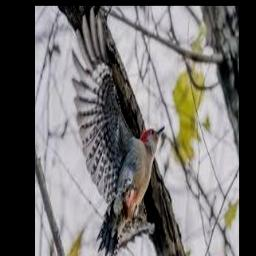Woodpecker: (72, 6, 164, 256)
